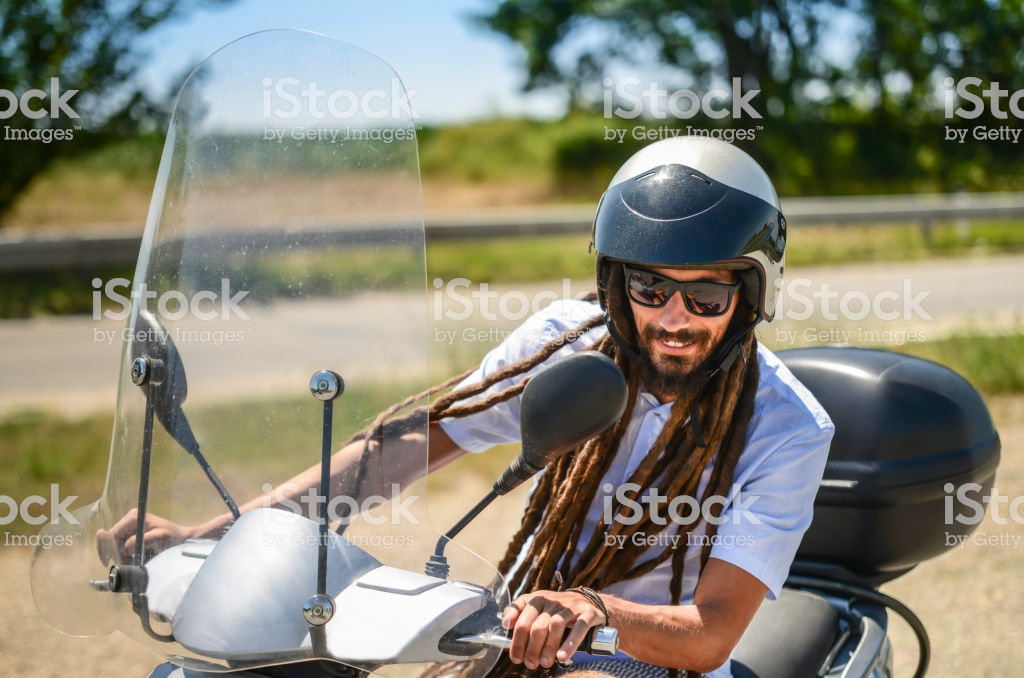helmet: (598, 123, 790, 311)
